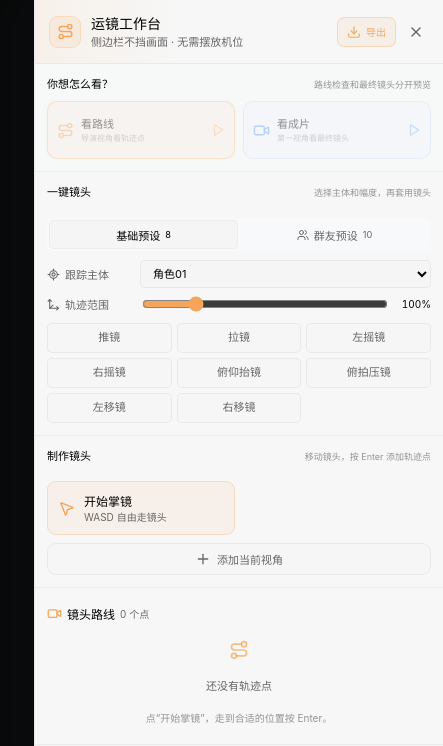
Test: updates a community preset route immediately while its range slider moves
Click the button "群友预设 10" at (334, 234), box [241,221,428,248]
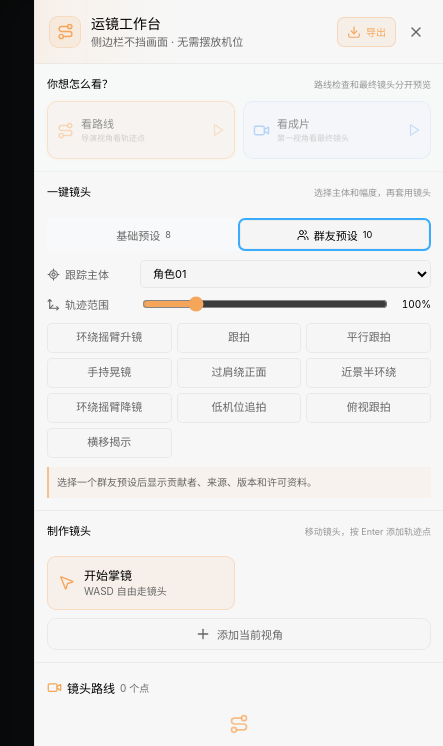
Click the button with aria-label "套用平行跟拍镜头预设" at (369, 338), box [306,323,431,353]
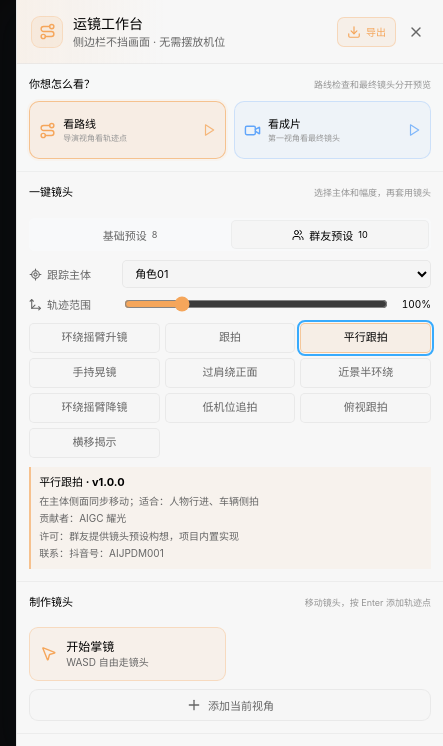
Set the slider named "镜头预设轨迹范围" to "2.5" at (330, 304), box [124,296,388,312]
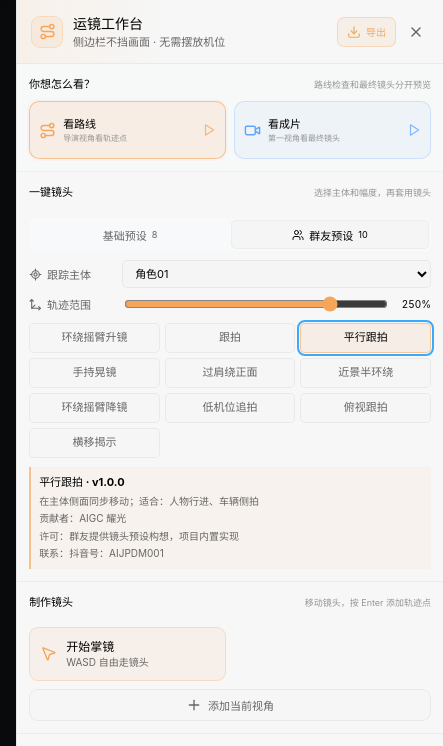
Now the text "250%" is shown, box [402,298,431,310]
